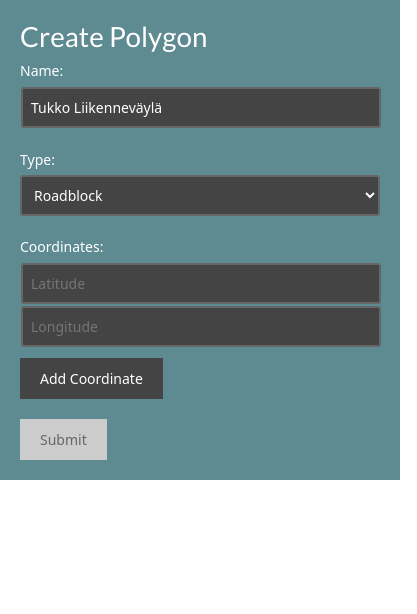
it: invalid extra polygon coordinate gets notified
Click the button "Add Coordinate" at [91, 379], box [20,358,163,399]
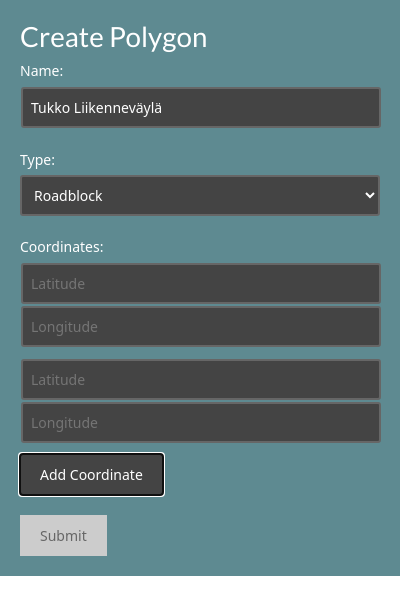
Type "999" into the 2nd field with placeholder "Latitude" at [201, 380], box [21,359,381,400]
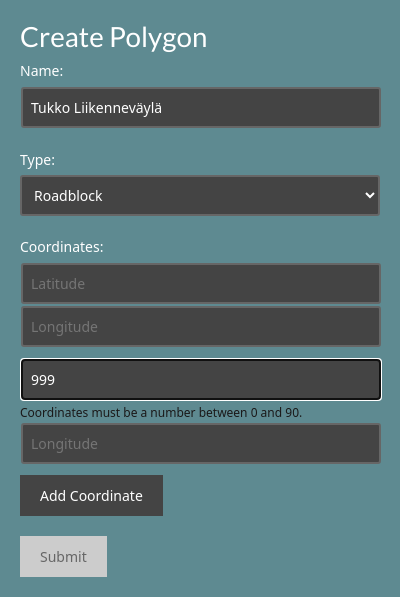
Result: the text "Coordinates must be a number between 0 and 90." is shown at [20,404,302,421]
